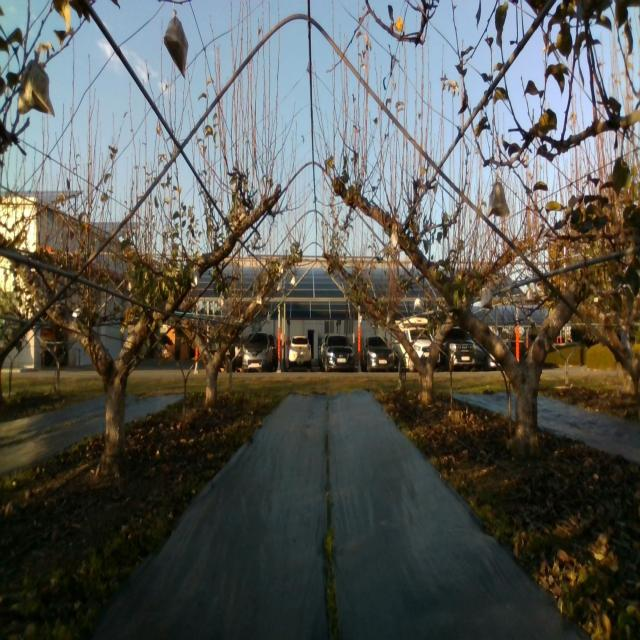pearbags: (18, 59, 55, 117), (163, 18, 188, 78), (488, 182, 510, 218), (482, 287, 494, 311)
